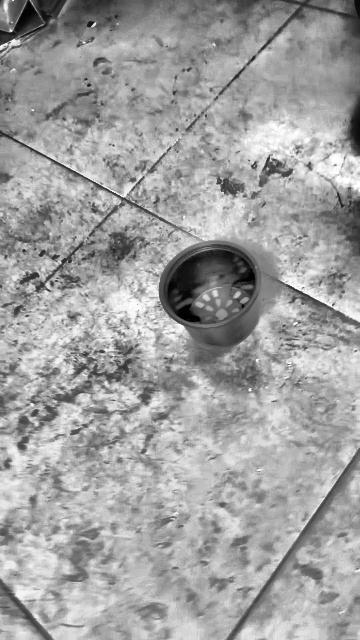pot: (159, 241, 262, 346)
